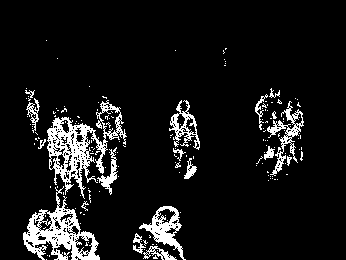person: (95, 94, 127, 194), (131, 201, 184, 260), (166, 99, 201, 178), (48, 103, 74, 208), (272, 98, 305, 176), (67, 114, 95, 200), (254, 86, 285, 163), (23, 85, 47, 149)
